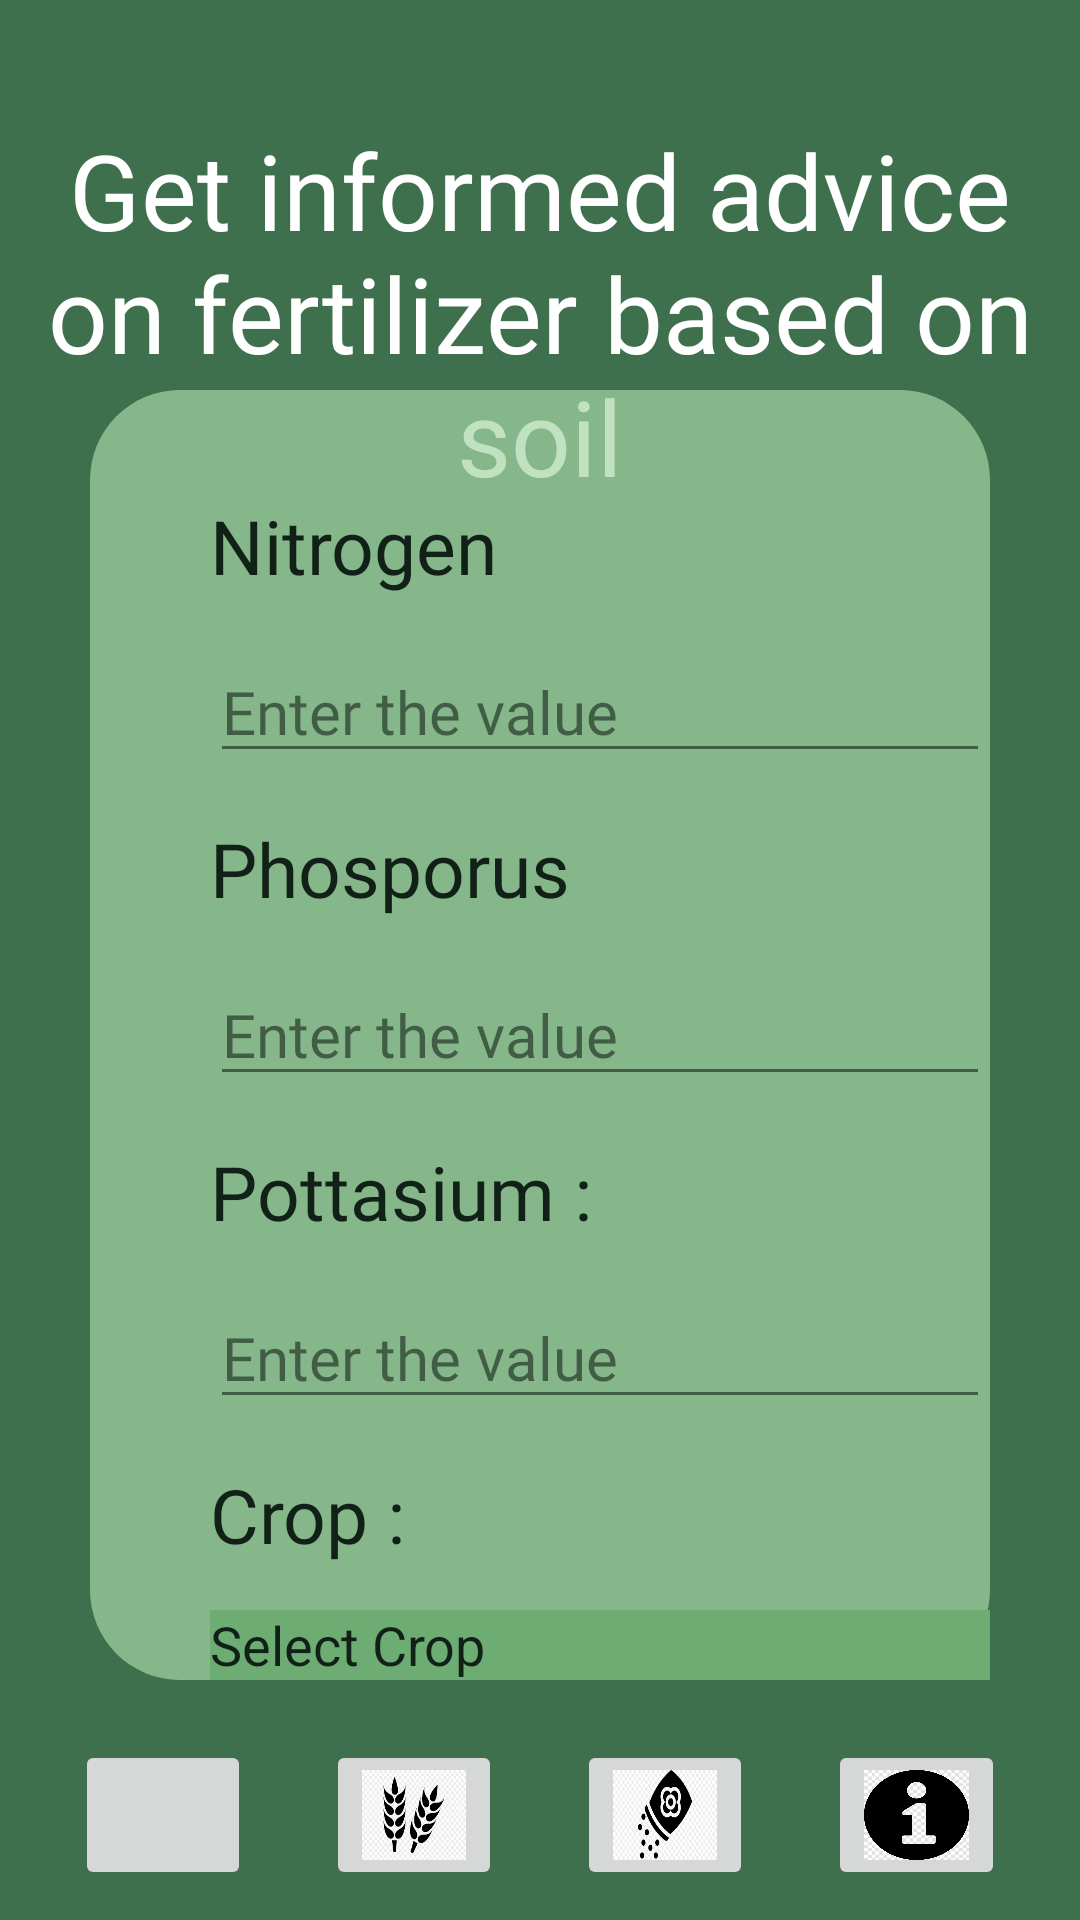

Icon click points for this 1080px×1920px phone screenshot, format point (x, y):
aboutus: point (916, 1815)
fertilizer: point (665, 1815)
